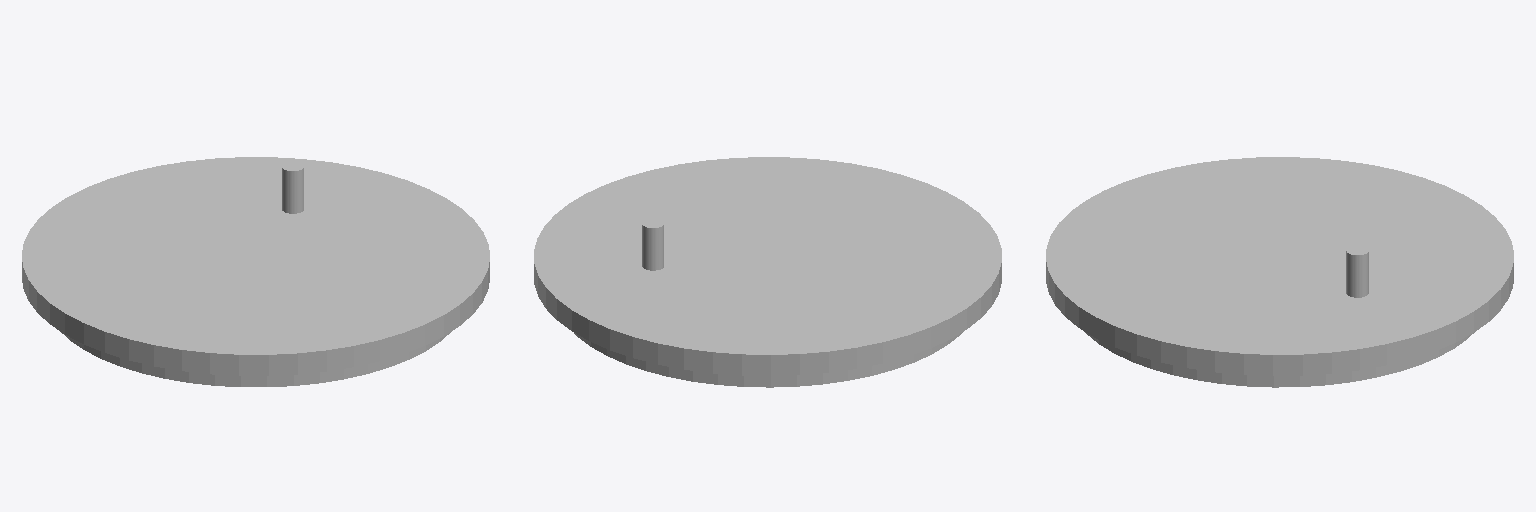
The model's file is RotorH.obj.
The picture shows the model from 3 angles: view 1: azimuth 30°, elevation 25°; view 2: azimuth 150°, elevation 25°; view 3: azimuth 270°, elevation 25°; orthographic projection.
Visible parts, largest first — view 1: RotorH_Rotor_Circle.003; view 2: RotorH_Rotor_Circle.003; view 3: RotorH_Rotor_Circle.003.
Part boxes in pixels (left/top/right/bottom): RotorH_Rotor_Circle.003: left=22, top=157, right=489, bottom=386; RotorH_Rotor_Circle.003: left=534, top=157, right=1001, bottom=387; RotorH_Rotor_Circle.003: left=1046, top=157, right=1513, bottom=387.
Size of the model in its own units: 1.19 by 0.2382 by 1.19.